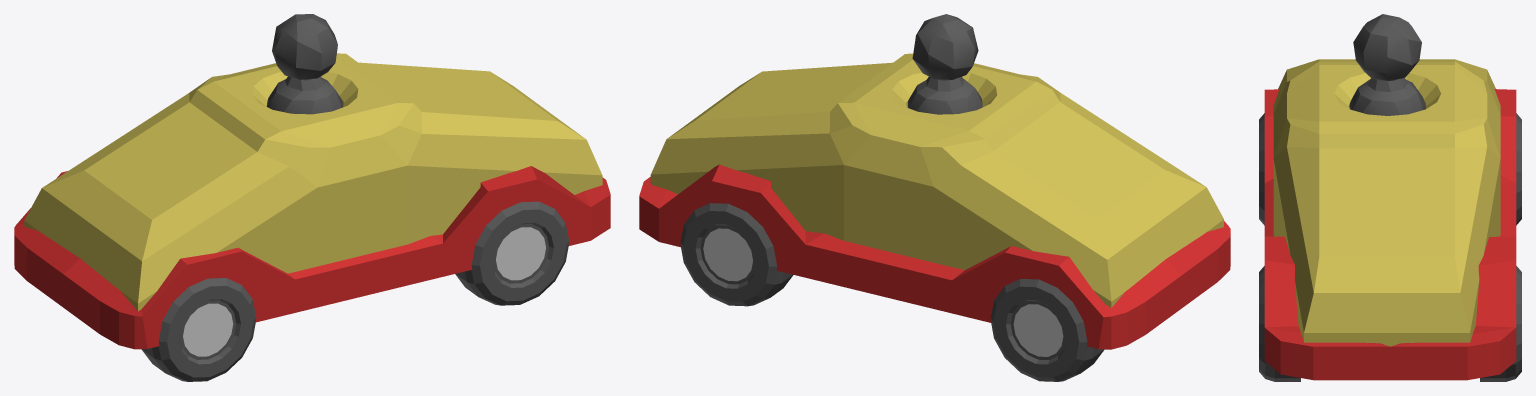
The model's file is BasicCar.fbx.
3 renders of one model, left to right at view 1: azimuth 30°, elevation 25°; view 2: azimuth 150°, elevation 25°; view 3: azimuth 270°, elevation 25°, orthographic.
Visible parts, largest first — view 1: Cube, Rim, Circle.001, peggy; view 2: Cube, Rim, Circle.001, peggy; view 3: Cube, Rim, peggy, Circle.001.
Boxes of the visible parts, x1,y1,x2,y2 form: Cube: (24,53,602,311); Rim: (14,166,610,349); Circle.001: (141,201,569,381); peggy: (267,14,342,114); Cube: (650,53,1223,307); Rim: (639,164,1230,349); Circle.001: (680,203,1104,381); peggy: (908,14,982,114); Cube: (1273,59,1500,346); Rim: (1264,89,1516,380); peggy: (1349,14,1425,115); Circle.001: (1259,113,1521,381).
Bounding box in the file's own units: 1646 × 887 × 744.
